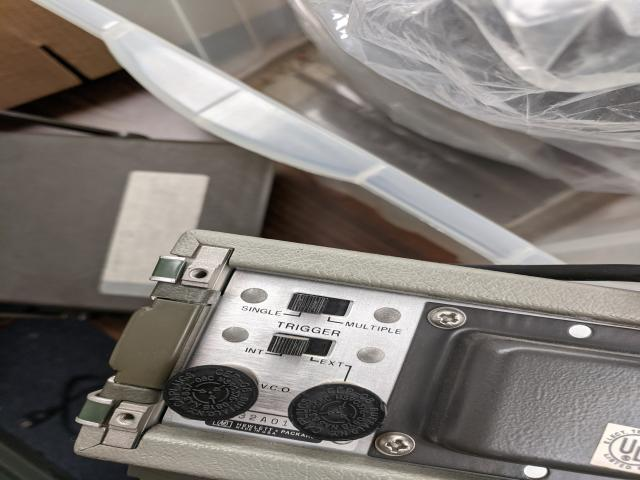CRS: (374, 432, 416, 458), (428, 306, 468, 330)
